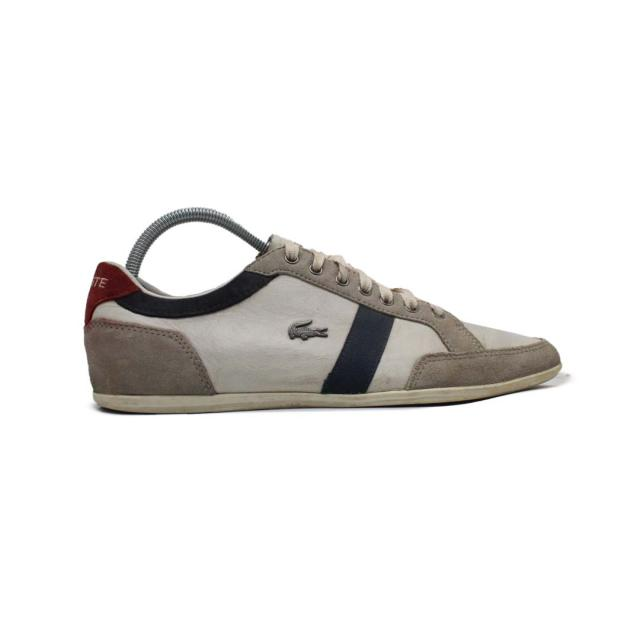heel: (76, 251, 132, 394)
midsole: (90, 391, 573, 416)
uppersole: (133, 262, 568, 388)
